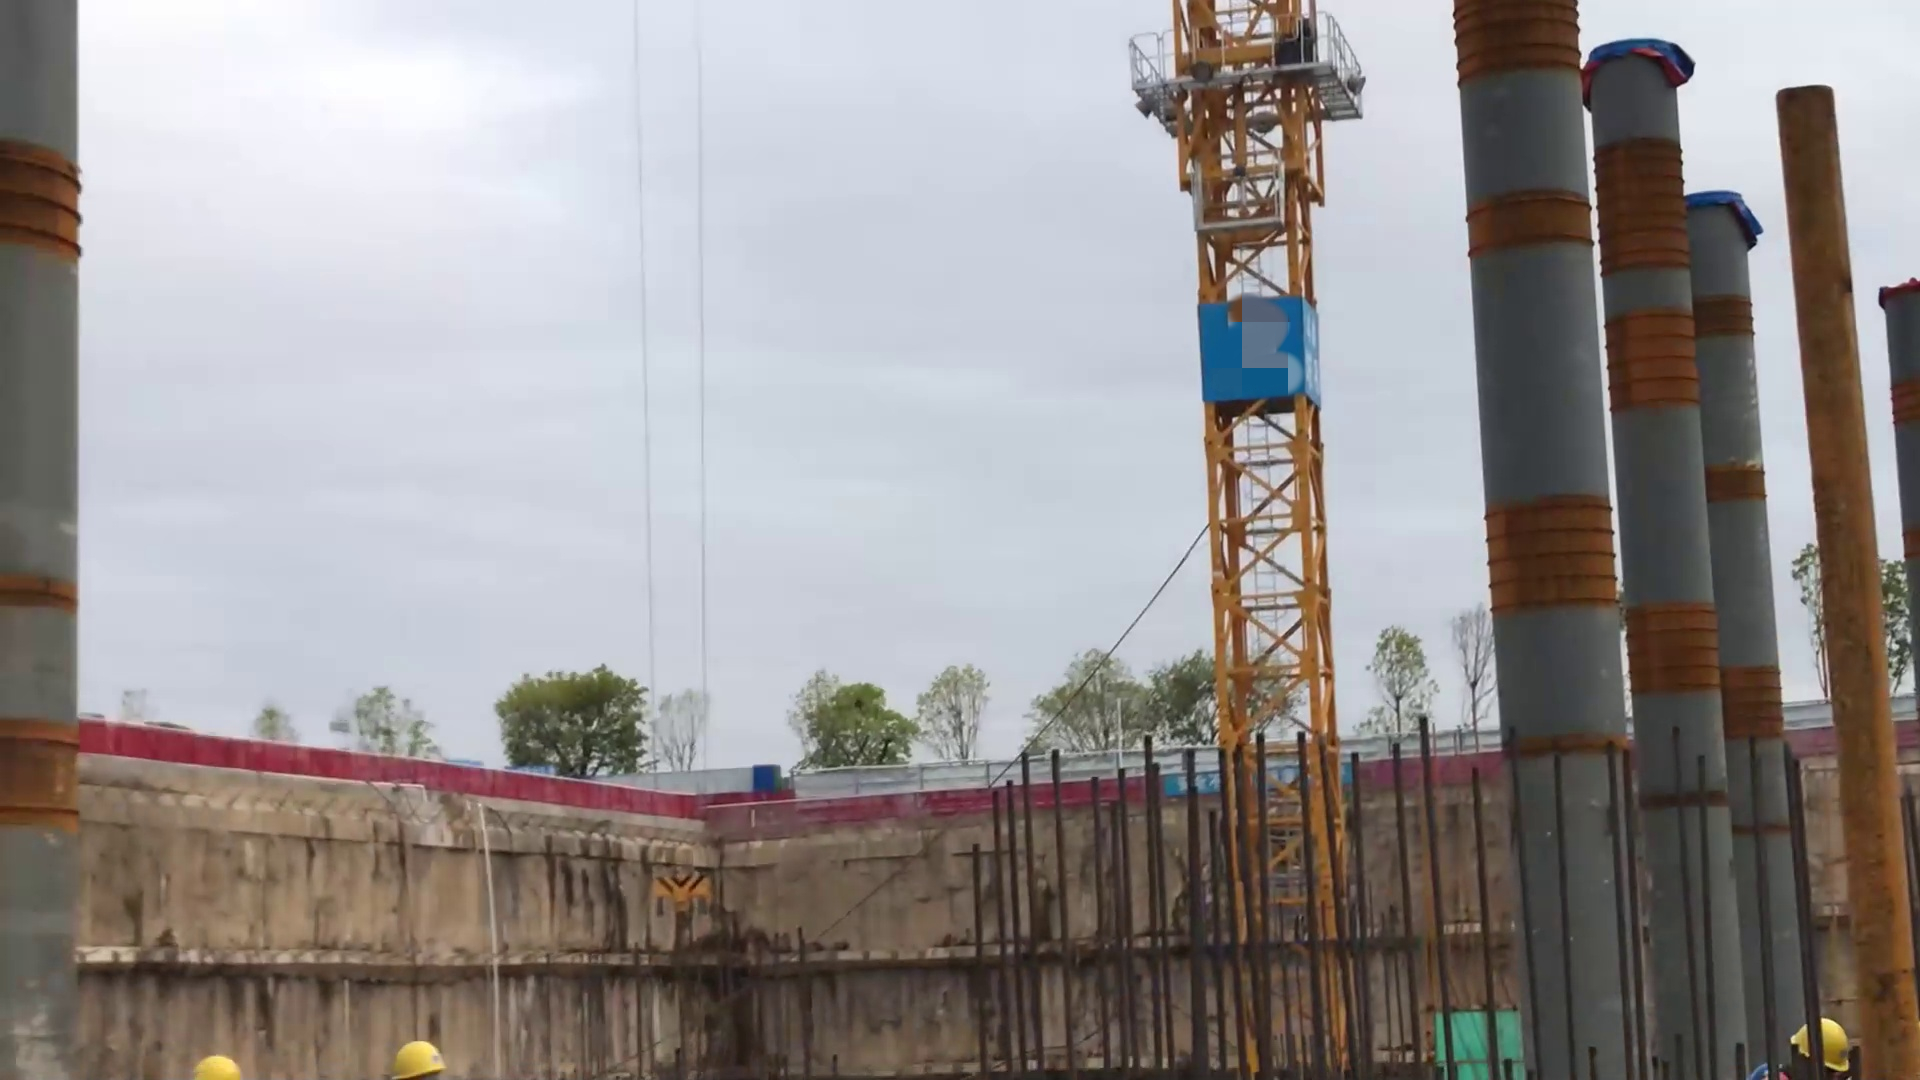helmet: (1791, 1017, 1854, 1080), (390, 1038, 444, 1080), (189, 1054, 244, 1080)
hook: (644, 868, 720, 945)
